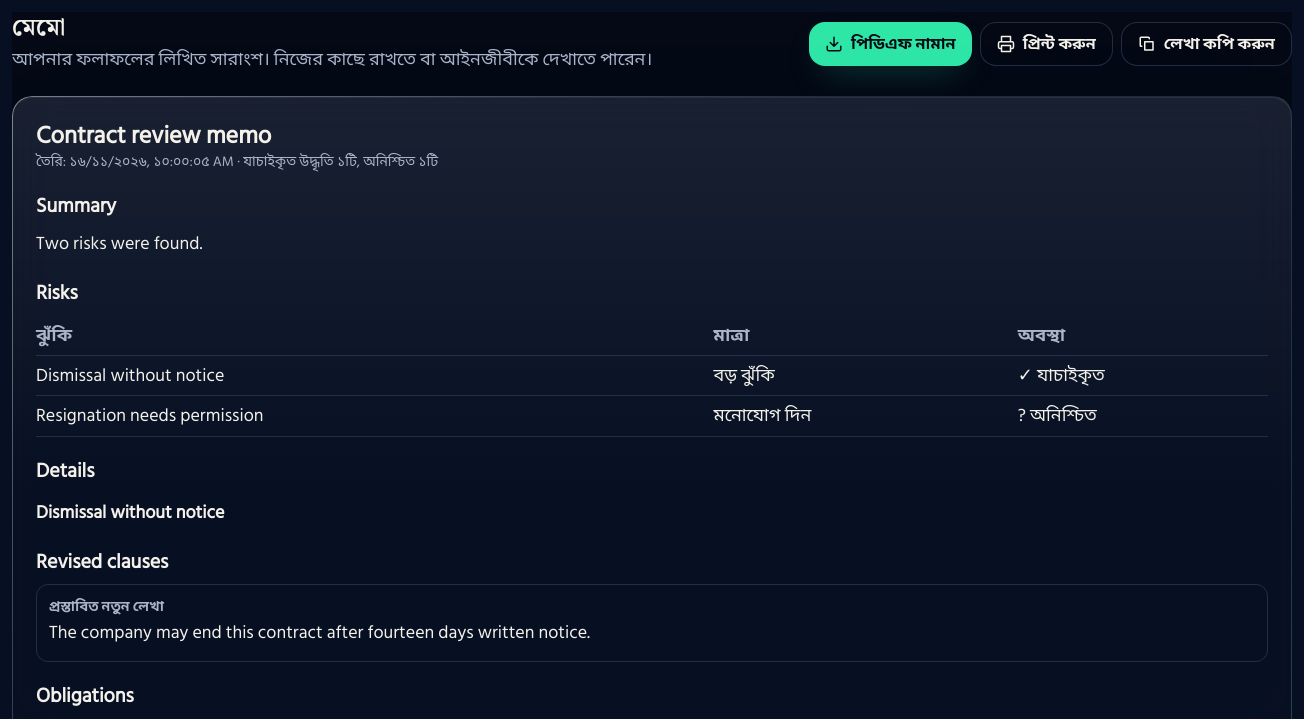
MemoView › FR-55 offers printing when the PDF cannot be made
Click the button "পিডিএফ নামান": (890, 44) [809,22,972,66]
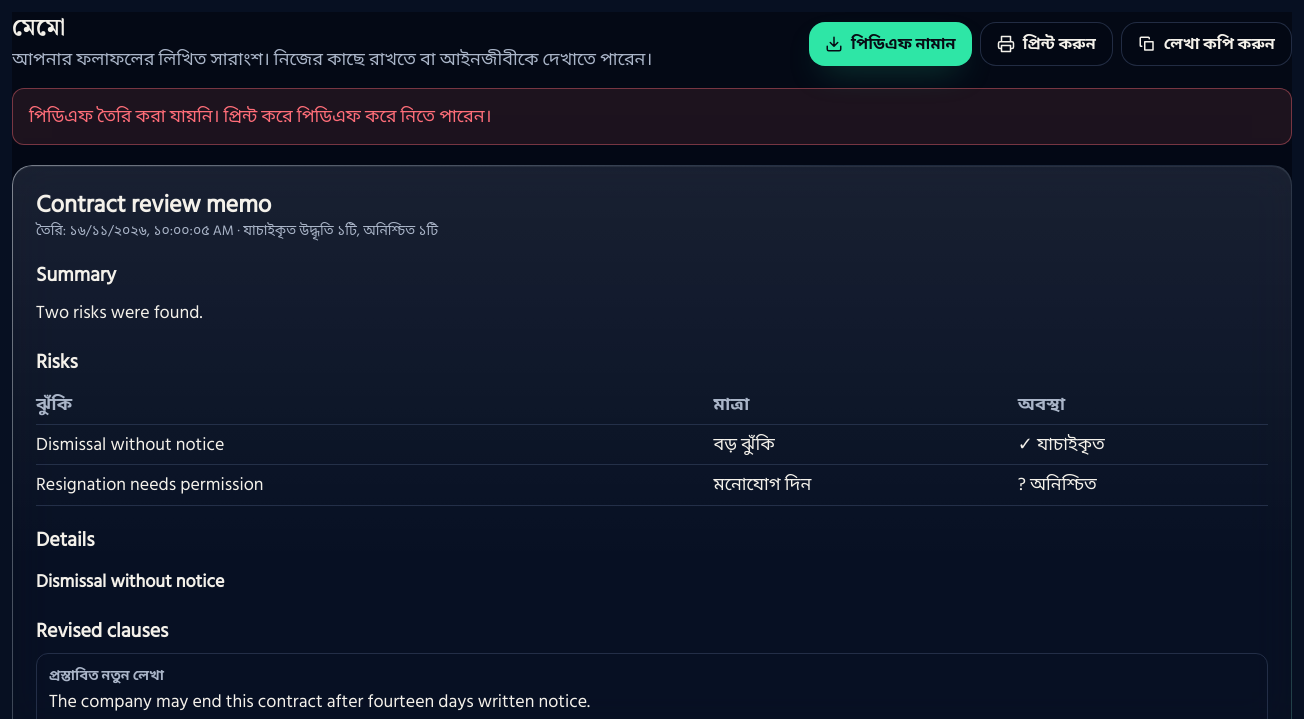
Now the message shows "প্রিন্ট করে পিডিএফ করে নিতে পারেন", box [29,102,492,130]
